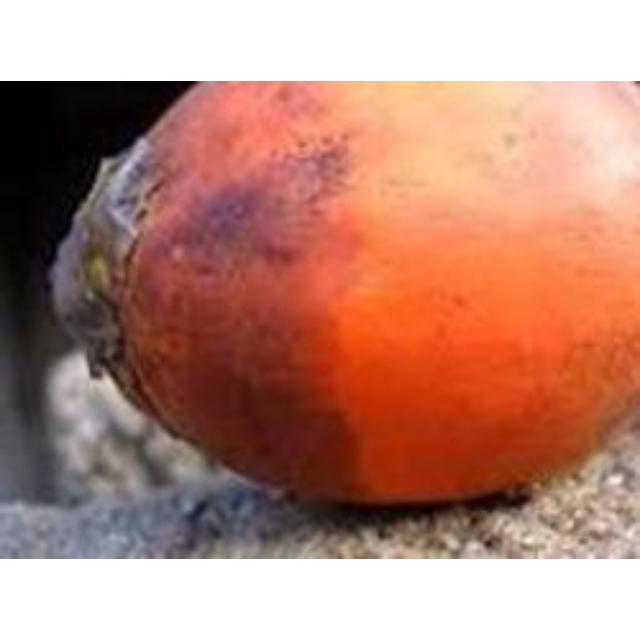good: (49, 81, 637, 514)
